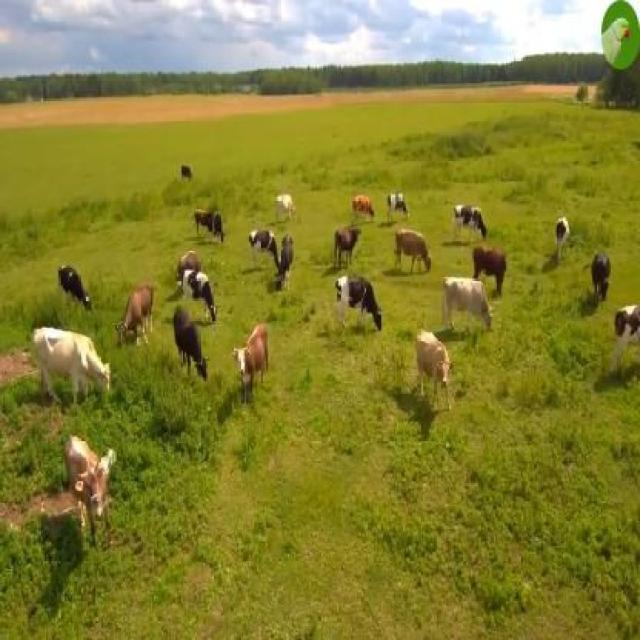Cow: (34, 326, 111, 420), (441, 276, 494, 338)
